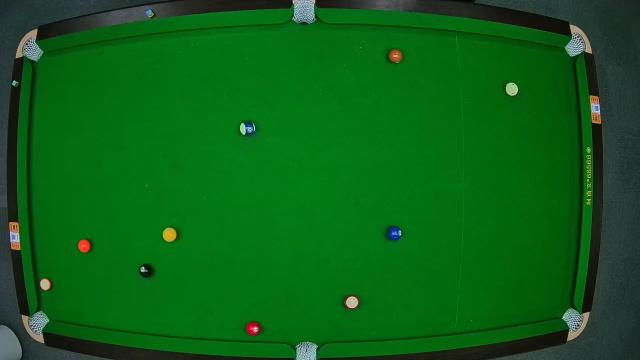bag1: (21, 38, 44, 62)
bag2: (292, 0, 316, 24)
bag3: (566, 32, 586, 56)
bag4: (22, 311, 50, 333)
bag5: (296, 342, 316, 360)
bag6: (563, 309, 585, 333)
ball0: (506, 82, 518, 98)
ball1: (164, 228, 176, 242)
ball10: (240, 121, 256, 136)
ball11: (345, 296, 359, 310)
ball12: (40, 278, 52, 292)
ball2: (386, 226, 402, 242)
ball3: (246, 322, 260, 336)
ball5: (80, 240, 90, 254)
ball7: (389, 49, 403, 64)
ball8: (139, 264, 153, 278)
